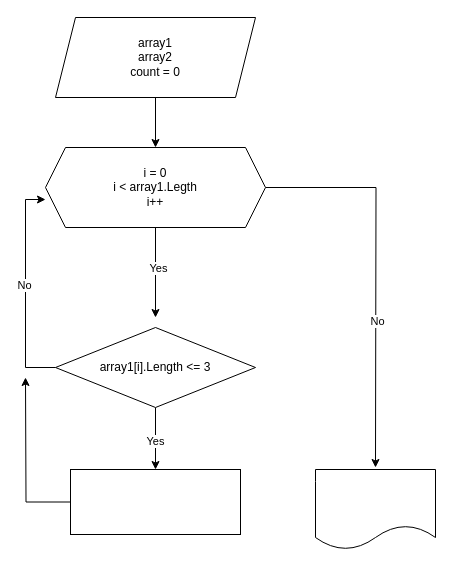
Some shapes in this 453 by 567 pixel diagram are drawn without their labels. Each missing label, with the box of its shape:
array2[count] = array1[i]; count++;: (70, 468, 240, 534)
print array2: (314, 468, 436, 550)
